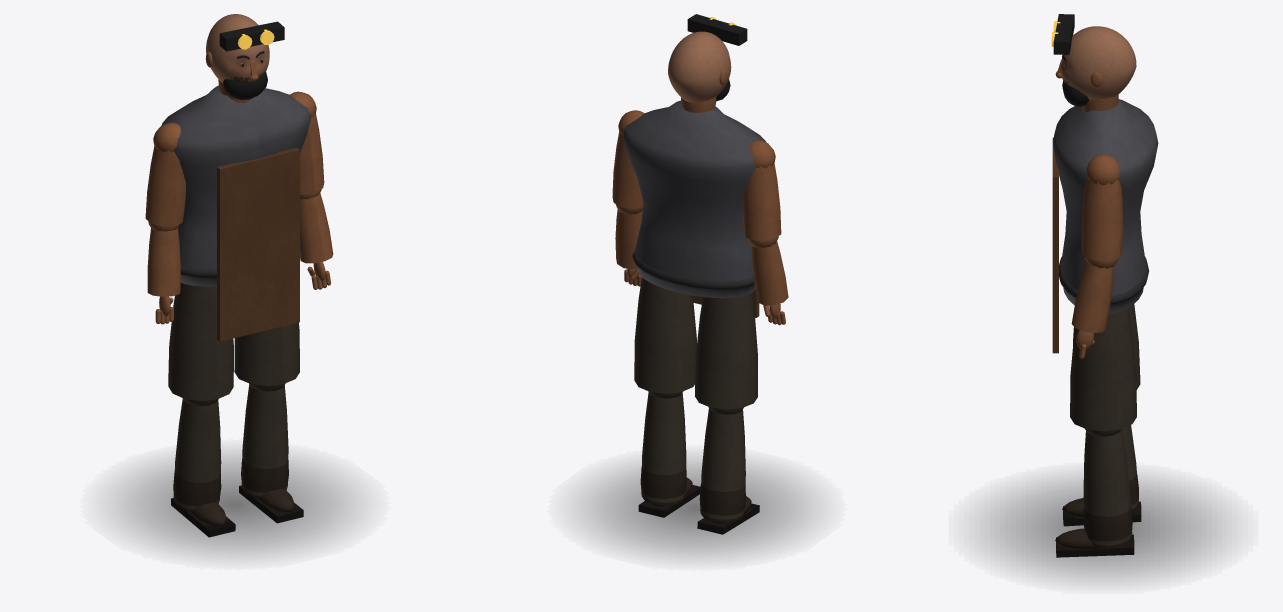
Rendered from npc_brannock.glb.
The picture shows the model from 3 angles, left to right: view 1: azimuth 30°, elevation 25°; view 2: azimuth 150°, elevation 25°; view 3: azimuth 270°, elevation 25°; orthographic projection. The views are drawn at different scales.
Parts seen in each view (by area): view 1: chest, object 11, legL, shinR, shinL, head, legR, armL, foreL, foreR, armR; view 2: chest, object 11, legL, legR, shinL, shinR, head, armL, foreL, armR, foreR; view 3: object 11, chest, shinR, legR, head, armR, foreR, shinL, legL.
Part boxes in pixels (box(x1,y1,x2,y2)): chest: box(161, 79, 311, 341); object 11: box(111, 452, 358, 556); legL: box(168, 283, 233, 400); shinR: box(239, 383, 303, 523); shinL: box(171, 398, 235, 537); head: box(205, 14, 284, 99); legR: box(234, 322, 299, 385); armL: box(145, 122, 185, 226); foreL: box(147, 221, 180, 324); foreR: box(300, 189, 333, 289); armR: box(289, 91, 324, 194); chest: box(622, 97, 766, 317); object 11: box(577, 457, 816, 558); legL: box(695, 293, 757, 409); legR: box(634, 277, 696, 393); shinL: box(697, 407, 759, 534); shinR: box(638, 391, 700, 517); head: box(668, 14, 747, 102); armL: box(743, 140, 781, 240); foreL: box(748, 236, 788, 325); armR: box(612, 110, 644, 208); foreR: box(615, 204, 642, 286); object 11: box(979, 476, 1227, 580); chest: box(1052, 94, 1158, 353); shinR: box(1055, 429, 1134, 557); legR: box(1070, 307, 1136, 431); head: box(1051, 14, 1136, 106); armR: box(1081, 154, 1123, 260); foreR: box(1071, 258, 1117, 358); shinL: box(1062, 425, 1141, 526); legL: box(1073, 304, 1140, 389).
Bounding box in the file's own units: 1.06 × 1.8 × 1.06.
7 materials, 4 textured.
